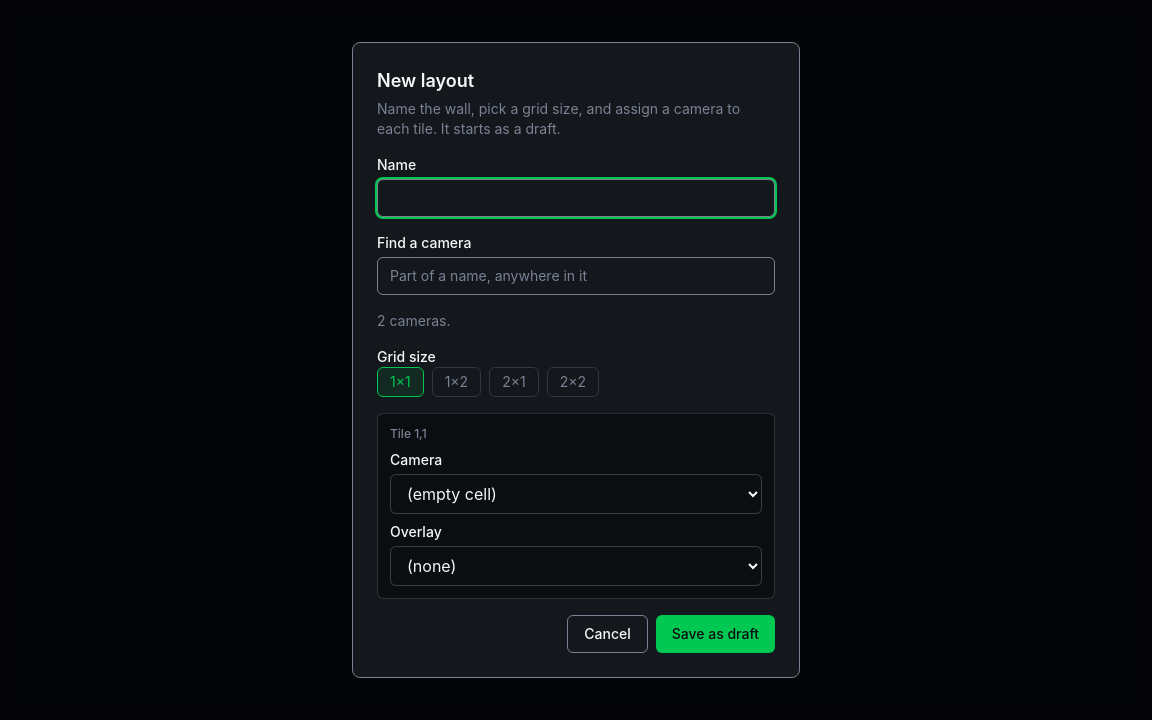
Test: LayoutEditorDialog — create › Rejects a wall with no populated cell (at least one tile required)
Type "Empty" into the field labelled "Name".
click(576, 198); type("Empty")  # box x1=377 y1=179 x2=775 y2=217
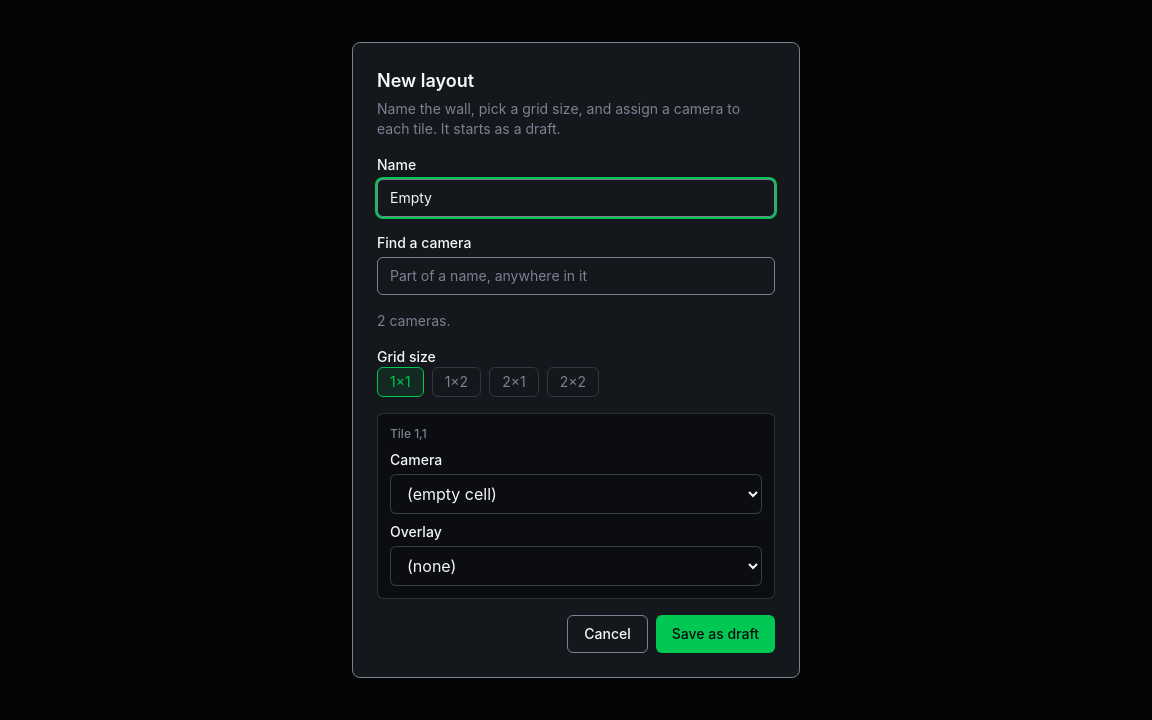
Click the button "Save as draft".
click(715, 634)  # box x1=656 y1=615 x2=775 y2=653
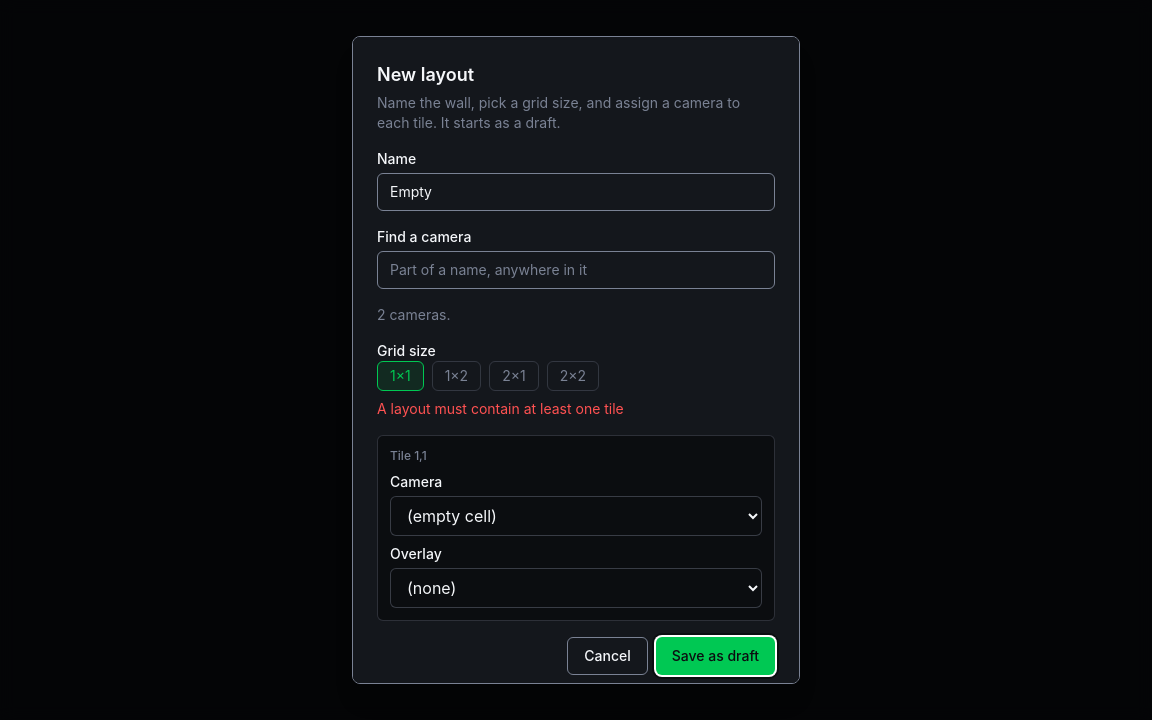
expect the text "A layout must contain at least one tile" is shown: met, box x1=377 y1=400 x2=624 y2=417
